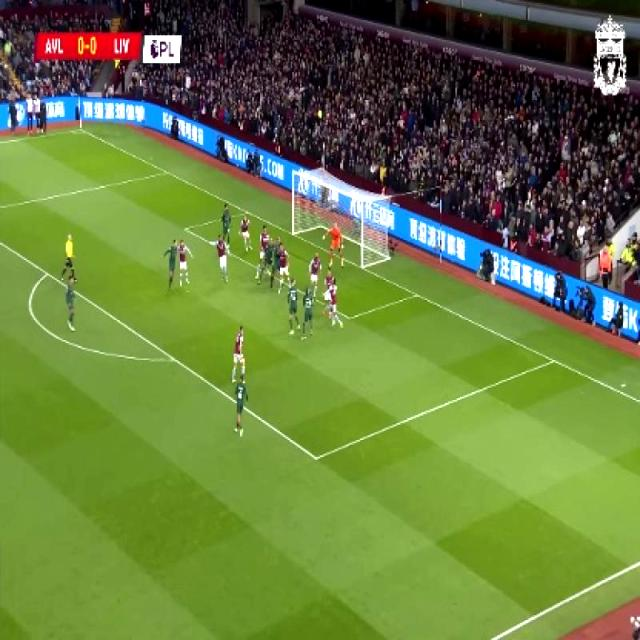bigarea_bottom_inner: (308, 443, 324, 472)
bigarea_bottom_outter: (546, 352, 557, 366)
bigarea_top_outter: (161, 166, 171, 179)
bottom_arc_area_intersection: (168, 351, 182, 369)
corner: (74, 126, 85, 134)
smallarea_bottom_inner: (343, 306, 357, 324)
smallarea_bottom_outter: (409, 284, 423, 302)
smallarea_top_inner: (180, 221, 190, 236)
smallarea_top_outter: (242, 206, 252, 217)
top_arc_area_intersection: (41, 266, 51, 279)
